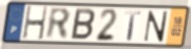2: (96, 8, 119, 43)
B: (69, 7, 97, 42)
H: (21, 6, 49, 42)
N: (142, 10, 169, 43)
R: (45, 6, 72, 41)
T: (124, 10, 142, 41)
